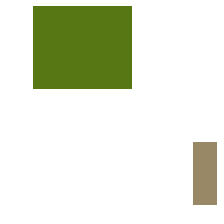rectangle: (33, 6, 131, 88), (193, 142, 216, 204)
